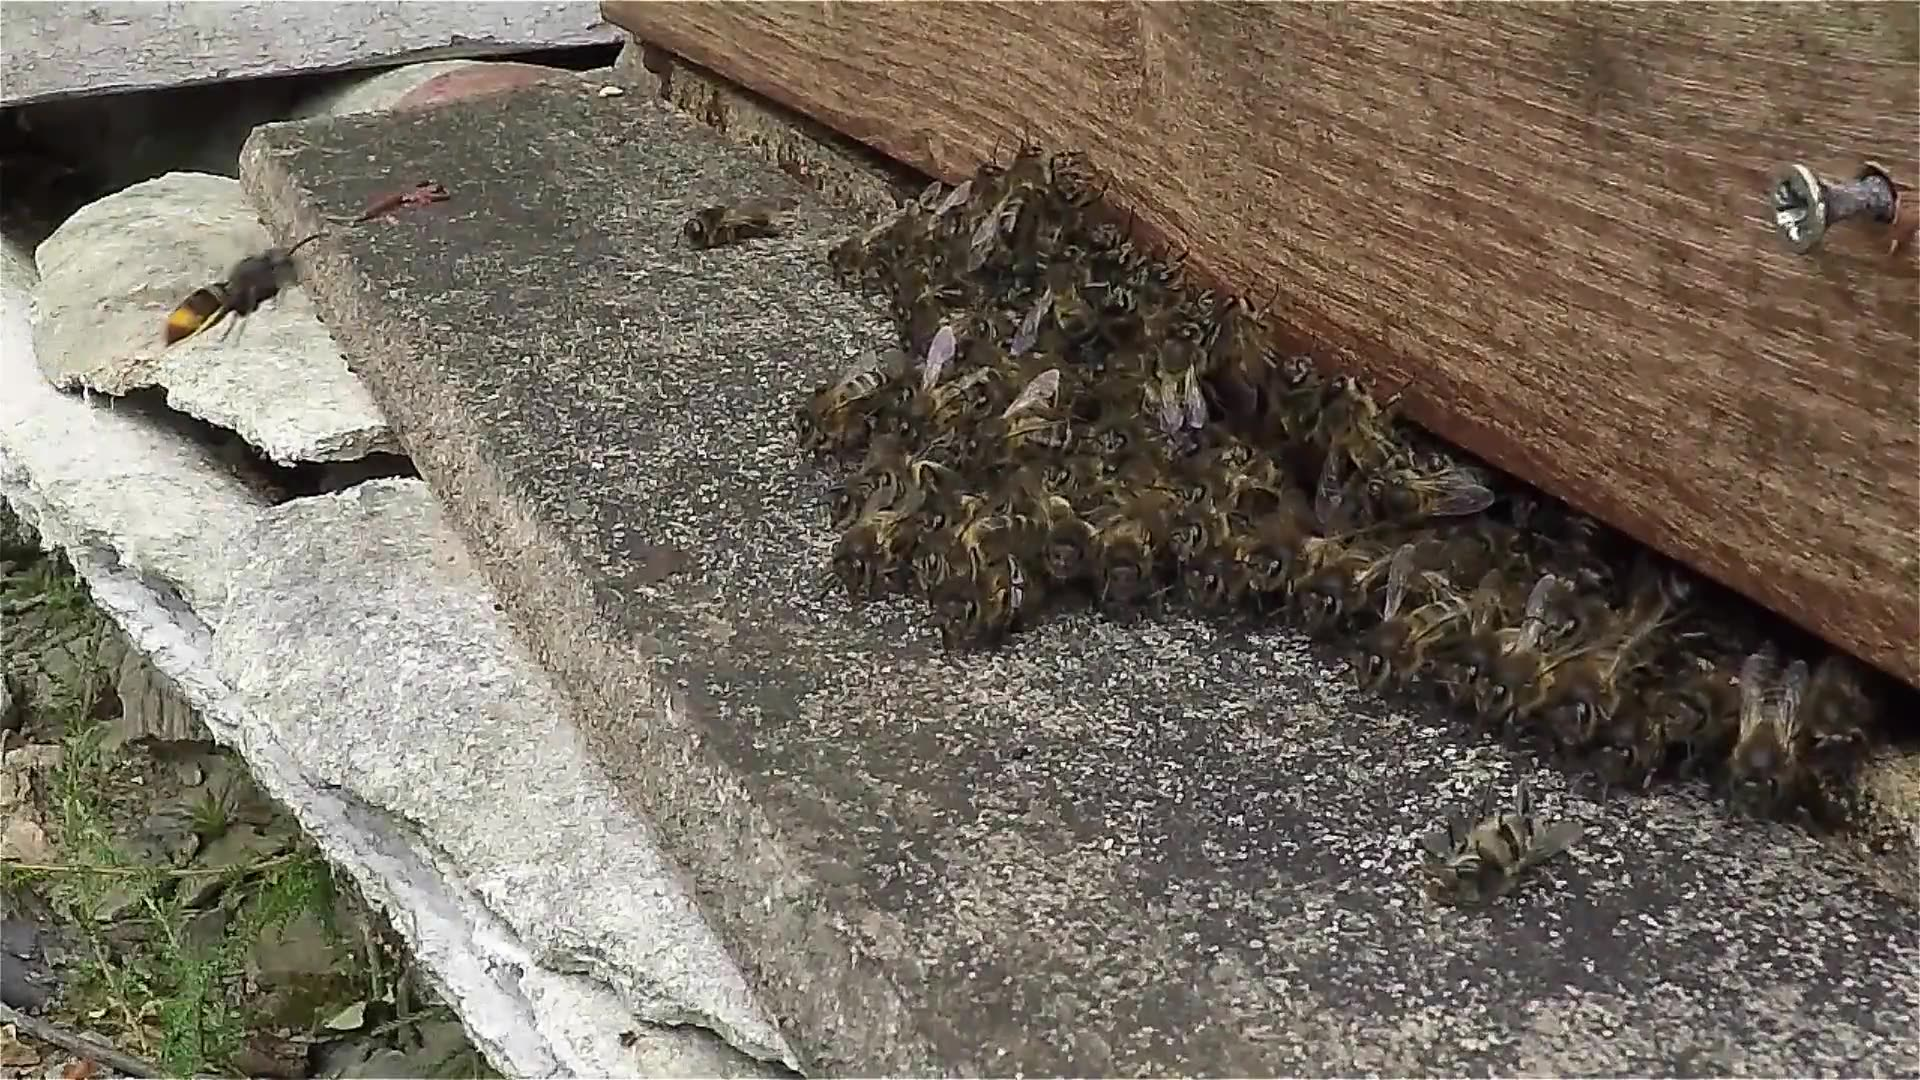bee: (800, 137, 1193, 651), (1196, 297, 1480, 700), (1482, 485, 1731, 803), (1720, 629, 1883, 840), (1416, 773, 1563, 910), (658, 175, 795, 261)
hornet: (157, 243, 305, 348)
